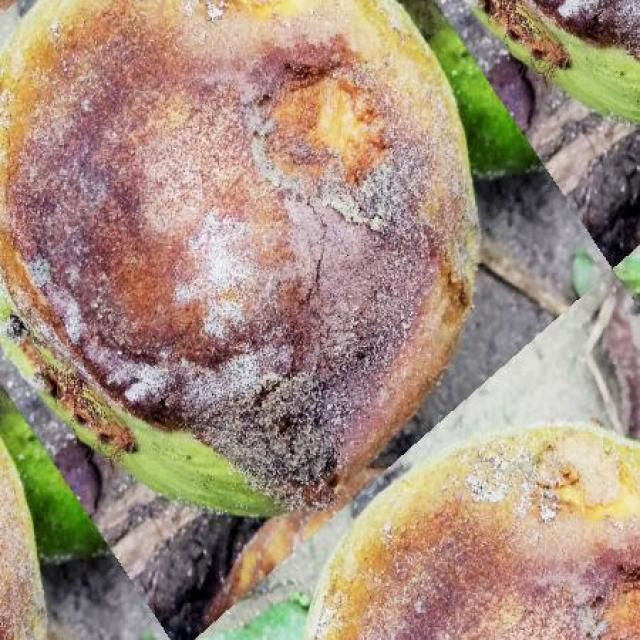Styler and Root: (0, 0, 479, 514), (311, 426, 640, 640)
